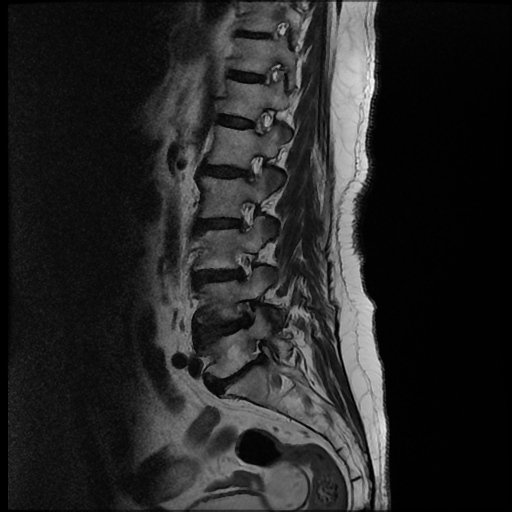LFS0: (231, 142, 274, 194), (227, 237, 266, 290), (227, 191, 268, 237)
LFS3: (227, 292, 266, 339)
